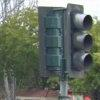traffic lights: (67, 4, 94, 76)
